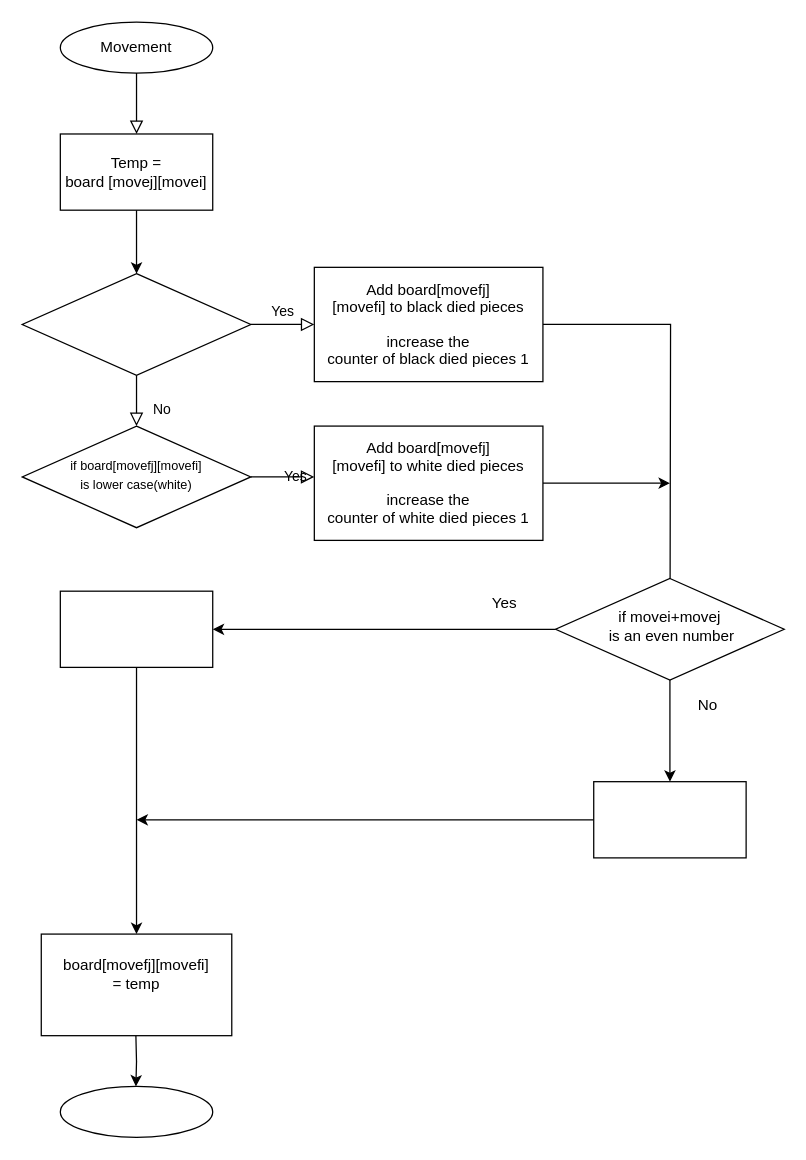
This 806x1160 diagram has some shape labels left out. Here are the shapes that lost their labels. From the top down, the centre of each, then its label:
point (136, 323): if board[movefj][movefi] is upper case(black)
point (136, 628): board[movej][movei] = ‘-‘
point (669, 819): board[movej][movei] = ‘.‘
point (136, 1111): End
